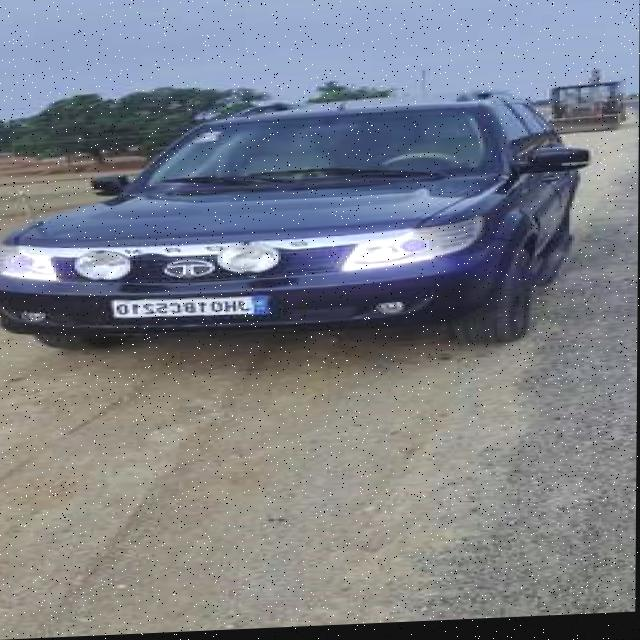plate: (110, 296, 269, 320)
